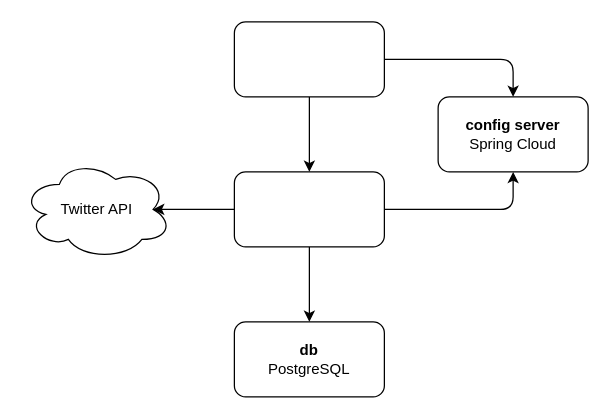
Some shapes in this 610 by 419 pixel diagram are drawn without their labels. Each missing label, with the centre of its shape:
"twitter-service Spring Data Spring Web" belongs at (x=308, y=209).
"webapp Spring Web AngularJS" belongs at (x=308, y=59).
